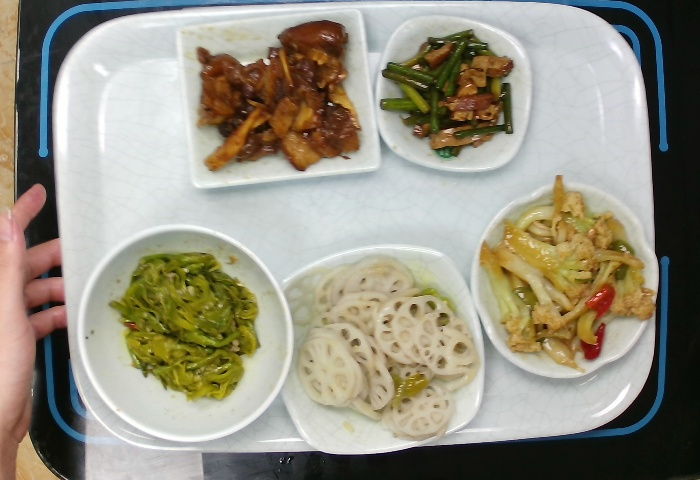JYsf-Ao_Yuan_Wan: (472, 182, 660, 382)
JYsf-Fan_Wan: (73, 222, 294, 446)
JYsf-Si_Fang_Die: (375, 12, 532, 175)
WCQzf-Da_Si_Fang_Die: (268, 239, 486, 457)
WCQzf-Ru_Ci_Si_Fang_Die: (171, 8, 383, 189)
